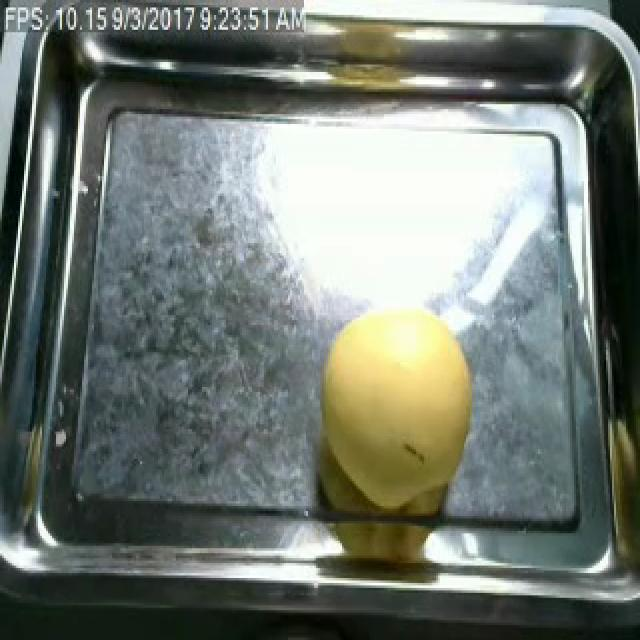Fruit: (306, 297, 488, 518)
